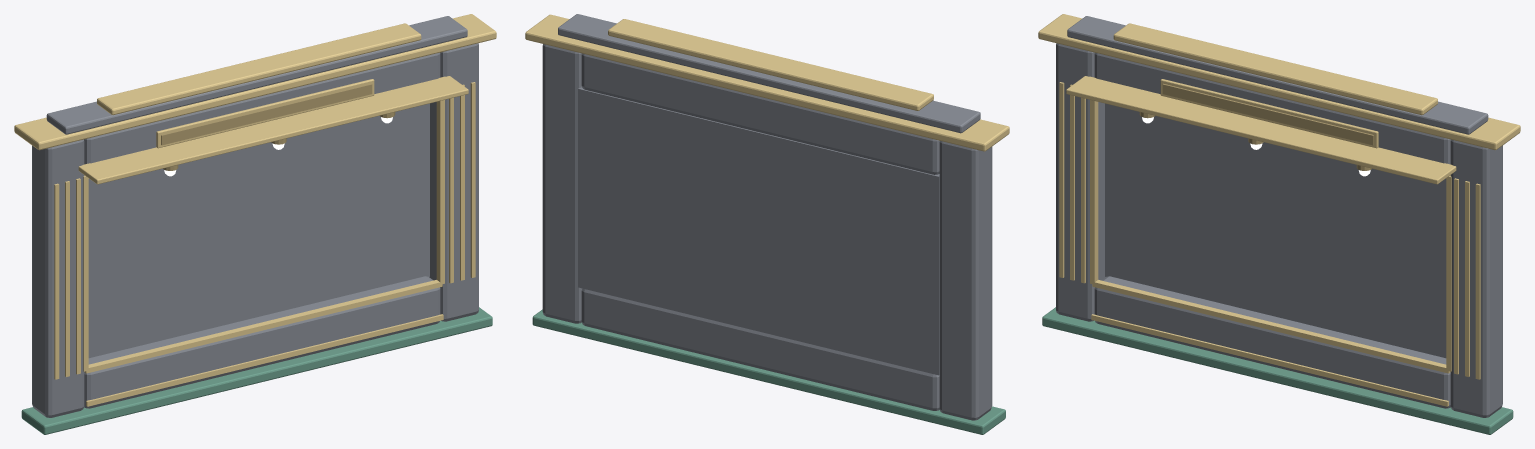
The model's file is prop_names_board_frame.glb.
3 renders of one model, left to right at view 1: azimuth 30°, elevation 25°; view 2: azimuth 150°, elevation 25°; view 3: azimuth 330°, elevation 25°, orthographic.
Parts seen in each view (by area): view 1: Frame; view 2: Frame; view 3: Frame.
Part boxes in pixels (left/top/right/bottom): Frame: left=14, top=14, right=496, bottom=434; Frame: left=525, top=14, right=1009, bottom=434; Frame: left=1038, top=14, right=1520, bottom=434.
Size of the model in its own units: 2.96 by 1.9 by 0.45.
